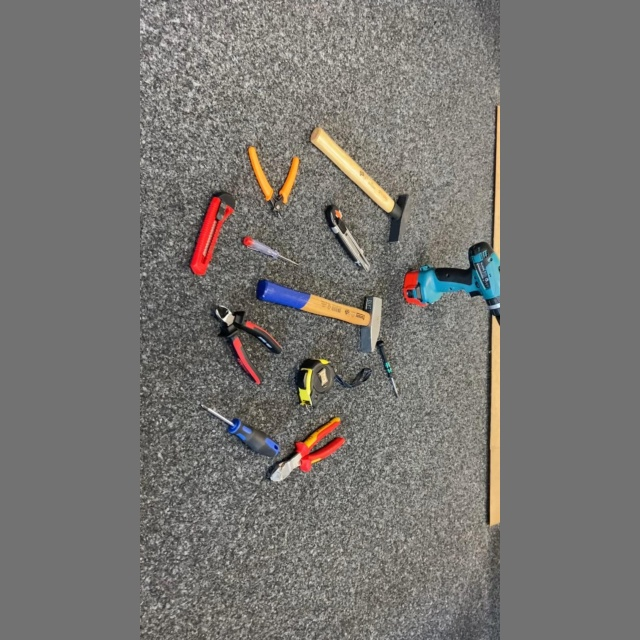drill: (400, 239, 500, 329)
screwdriver: (198, 402, 282, 460), (241, 235, 303, 268), (375, 340, 402, 400)
